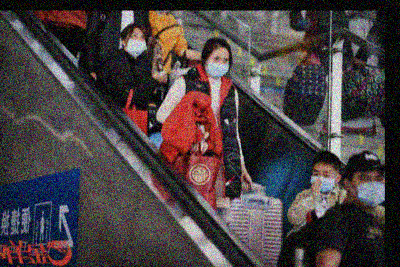with_mask: (352, 173, 383, 208), (308, 169, 335, 193), (124, 31, 146, 57), (206, 55, 230, 77)
